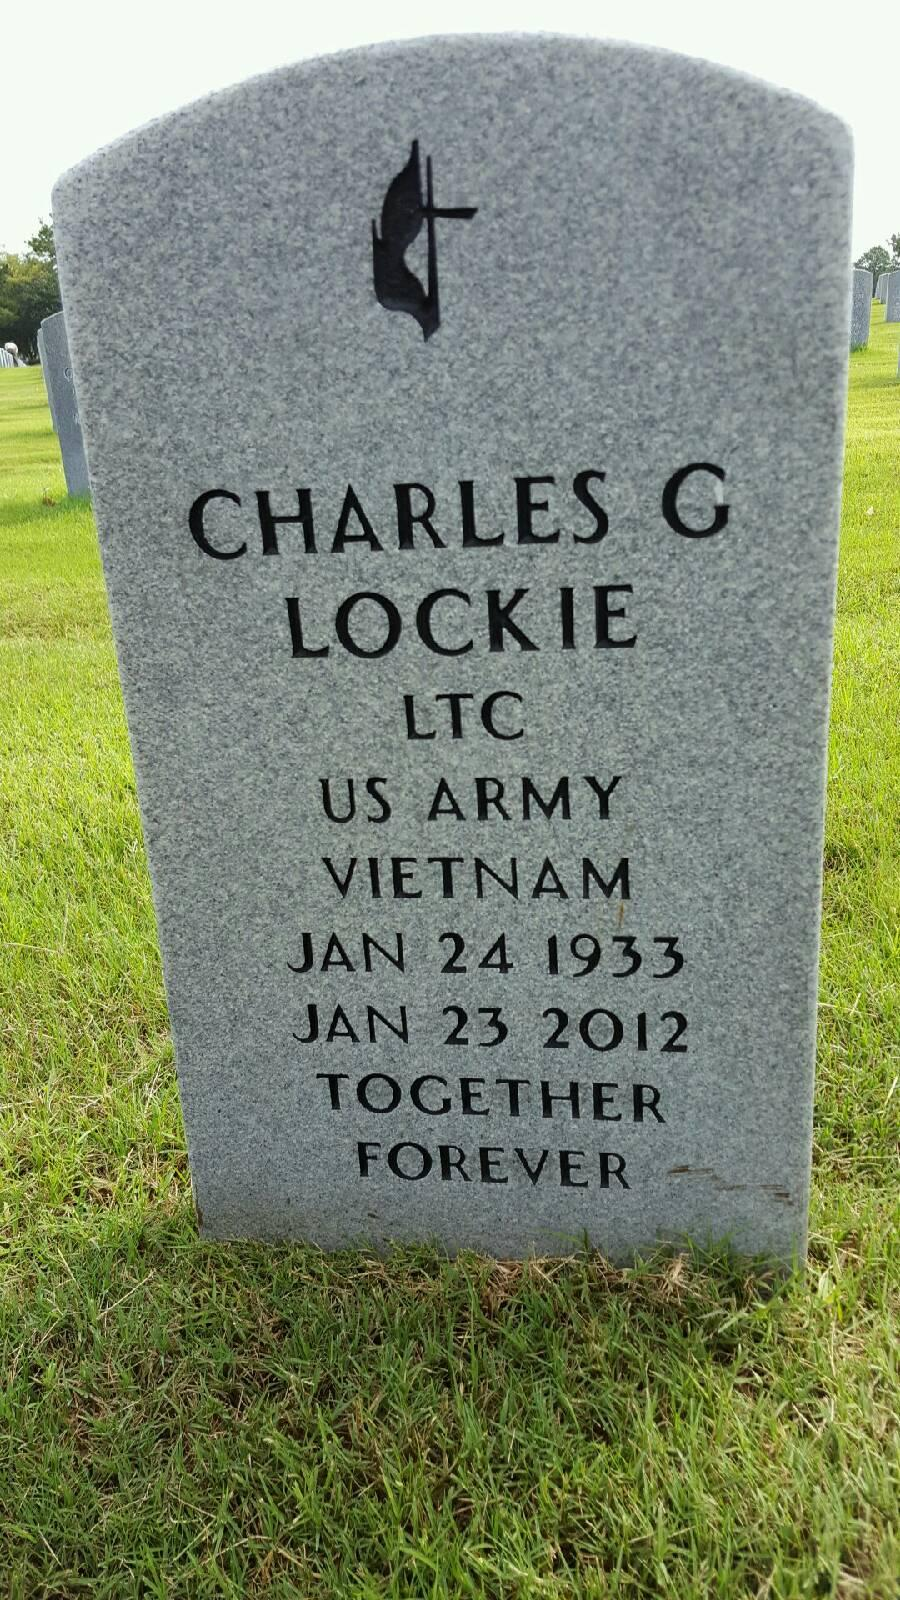military: (47, 35, 852, 1276)
